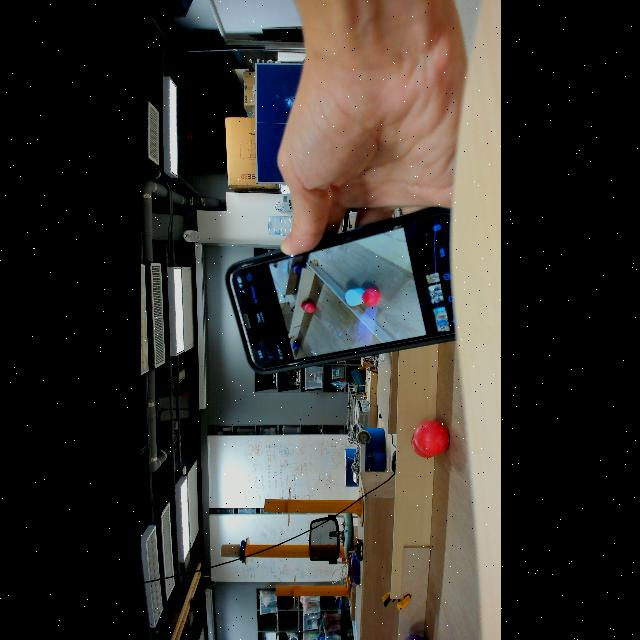P: (399, 634, 428, 640)
R: (413, 419, 449, 456), (410, 427, 440, 459)
